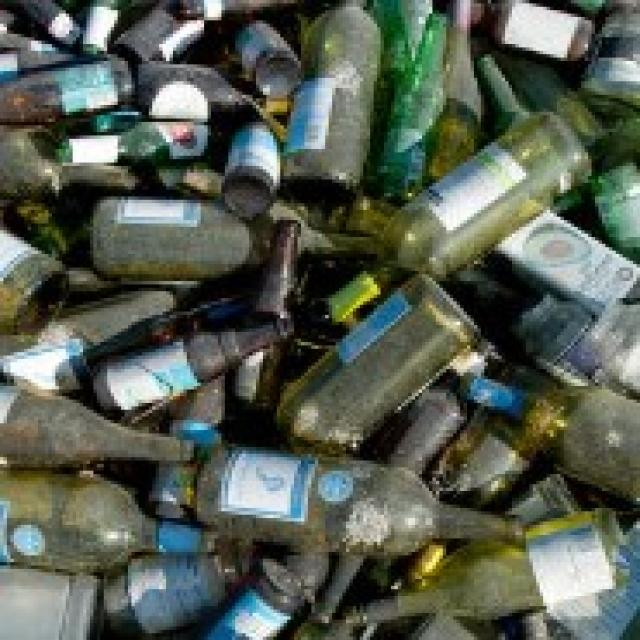electronic: (194, 437, 529, 557), (272, 273, 482, 457), (380, 110, 592, 274), (344, 510, 626, 627), (80, 309, 294, 419), (0, 469, 226, 573), (284, 0, 382, 204), (89, 194, 272, 274), (202, 549, 314, 640)
